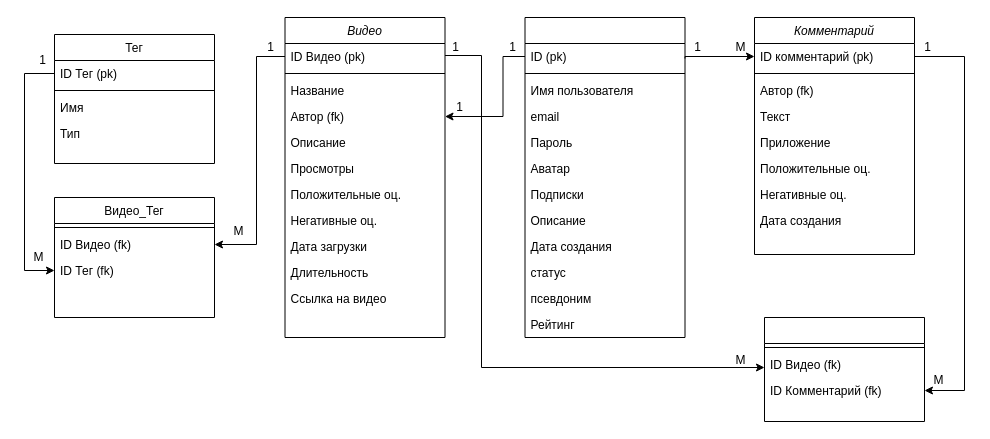
This 990x439 diagram has some shape labels left out. Each missing label, with the box of its shape:
Видео_Комментарий: (764, 316, 924, 422)
Пользователь: (524, 16, 685, 338)
